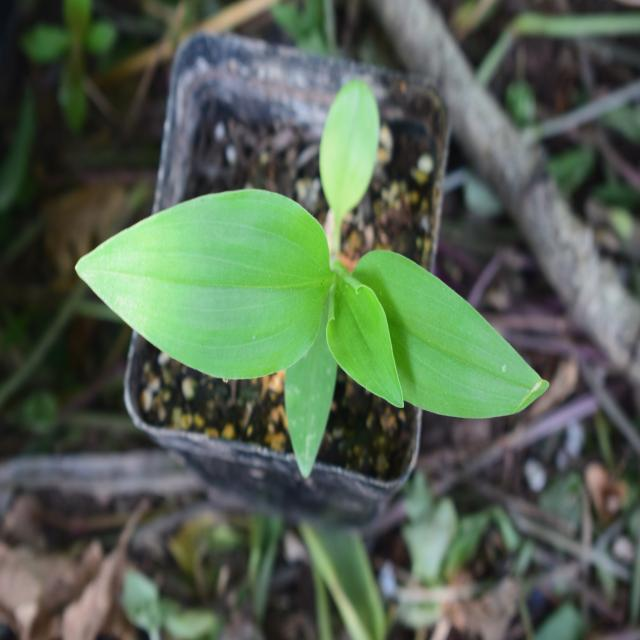Common Dayflower: (94, 155, 538, 455)
